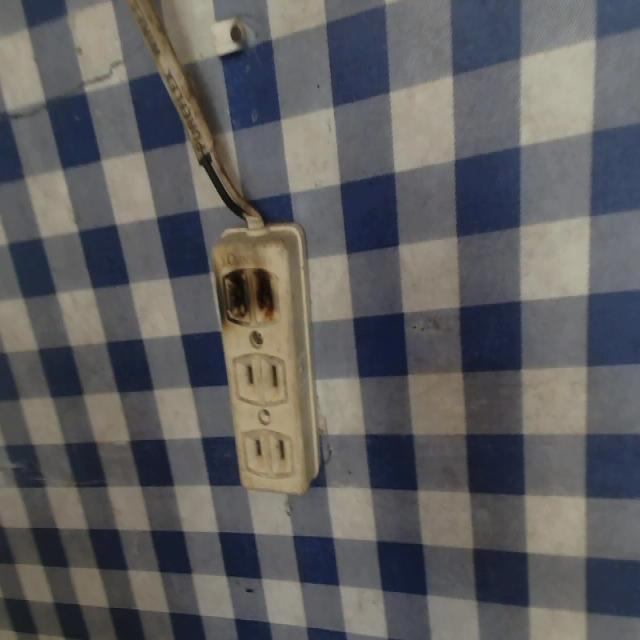-: (216, 261, 283, 335)
